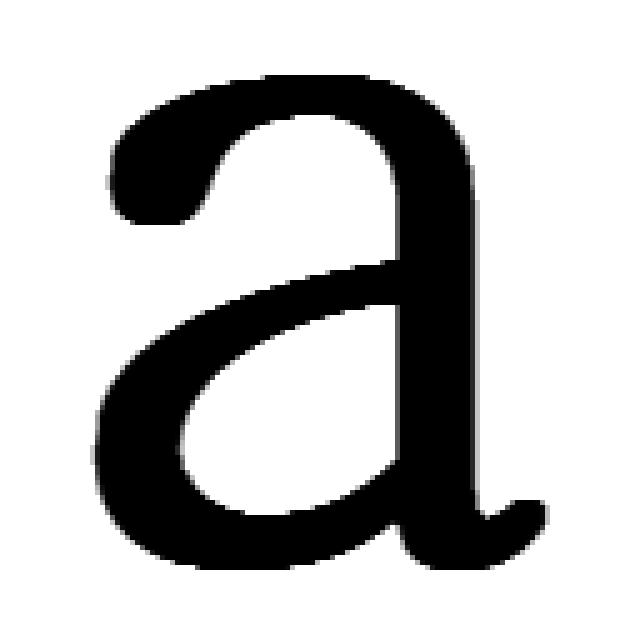A: (75, 60, 550, 580)
